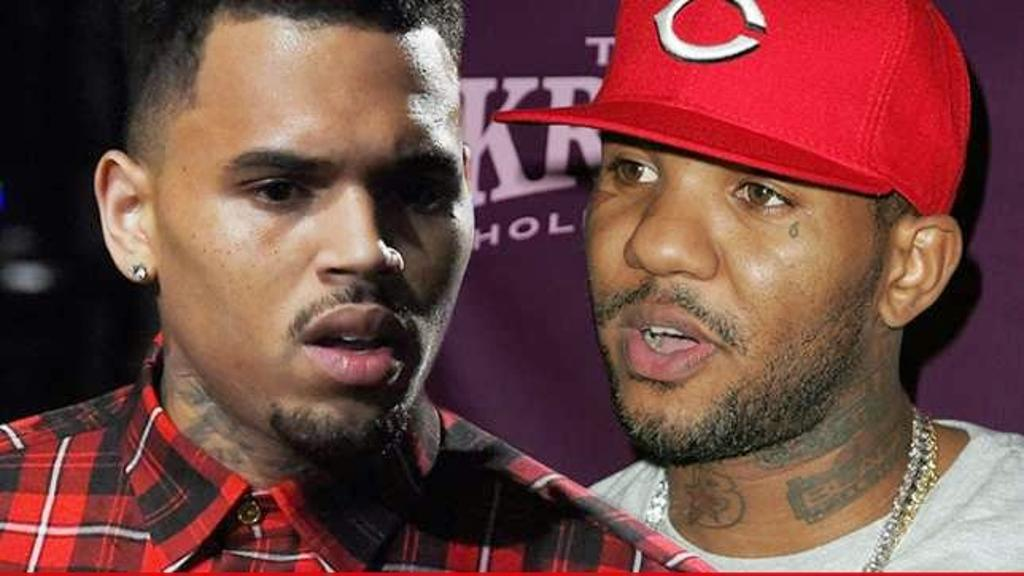face: (162, 24, 470, 456), (580, 124, 872, 460)
